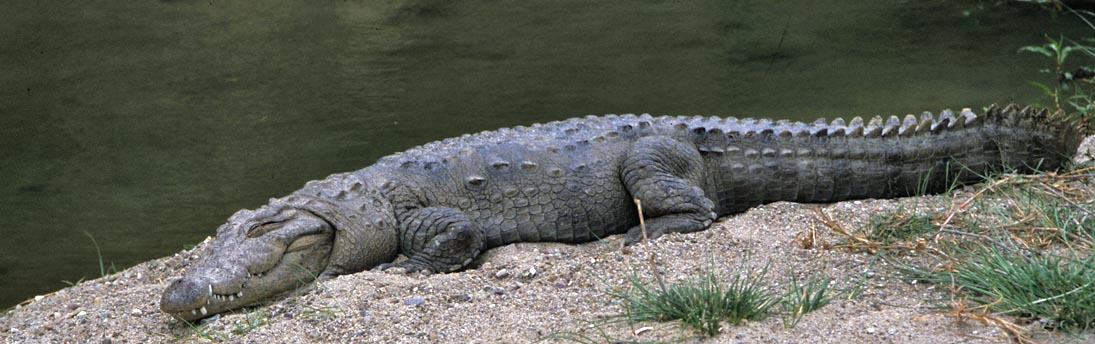Crocodile: (165, 108, 1092, 326)
